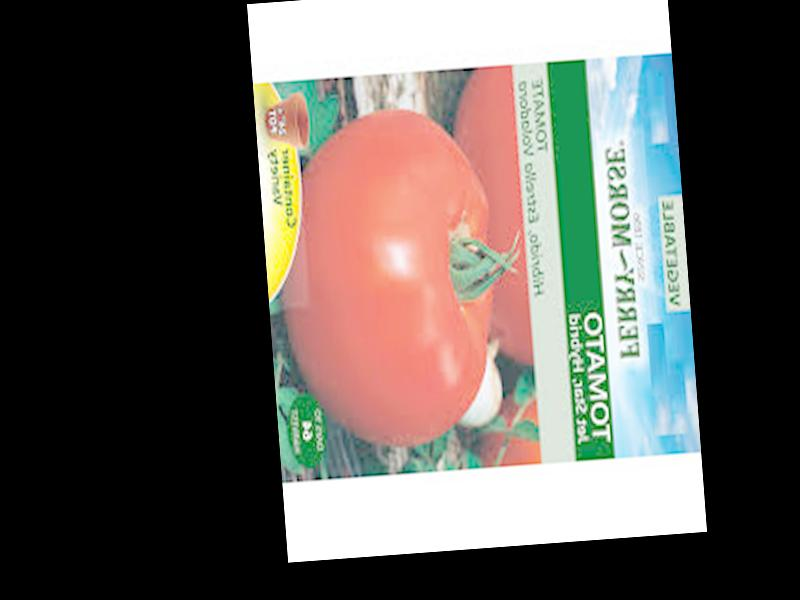Tomato: (270, 106, 505, 454)
